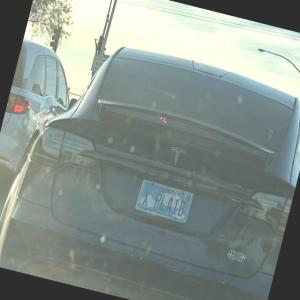Plate: (134, 179, 194, 225)
